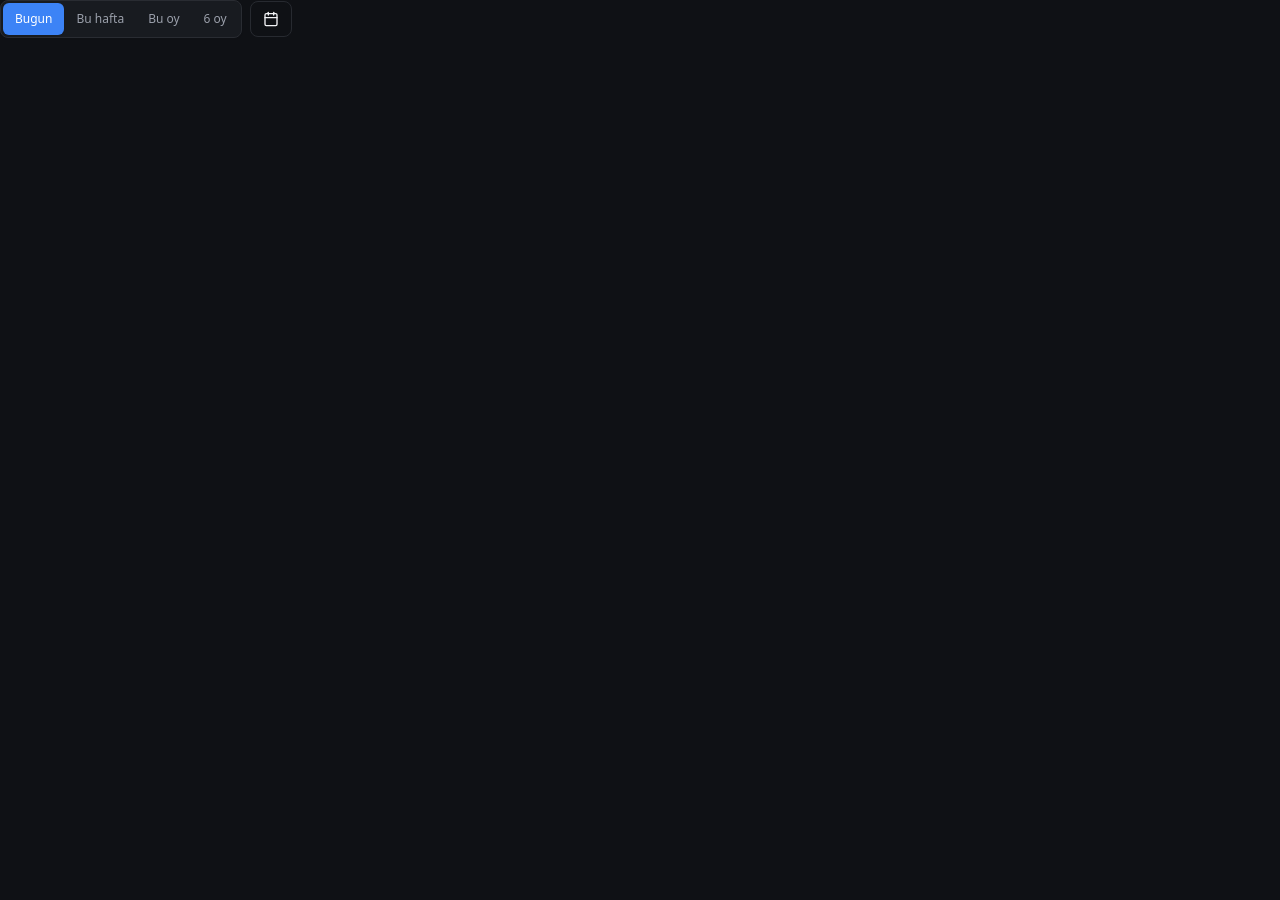
it: DateRangeFilter › opens the calendar popover with Uzbek weekday codes
The image size is (1280, 900).
Click the button named "Sana oralig'i — kalendar". click: coordinates (271, 19)
box: 250,1 -> 292,37
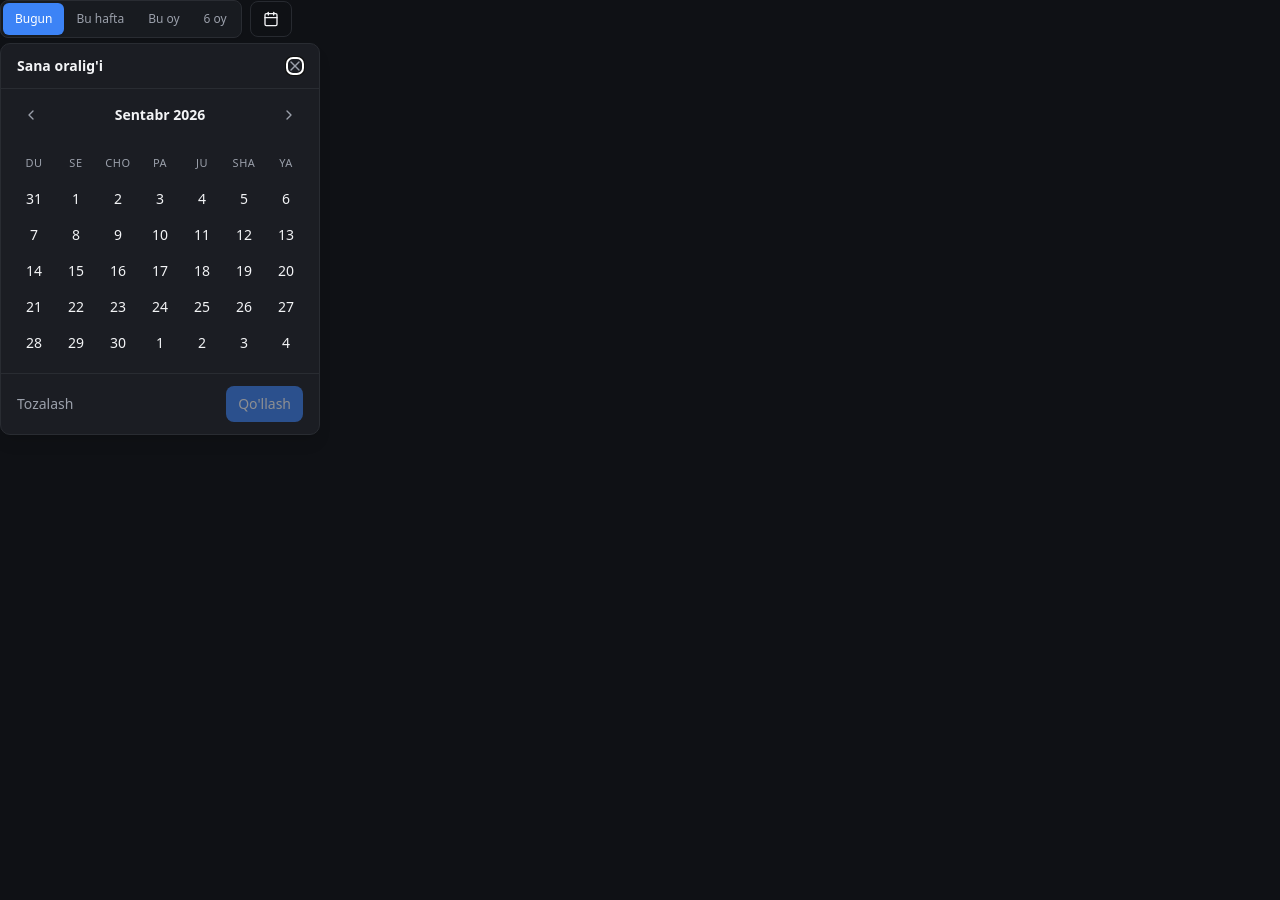
Result: the column heading "DU" is shown at 13,145 -> 55,181
Result: the column heading "CHO" is shown at 97,145 -> 139,181
Result: the column heading "YA" is shown at 265,145 -> 307,181
